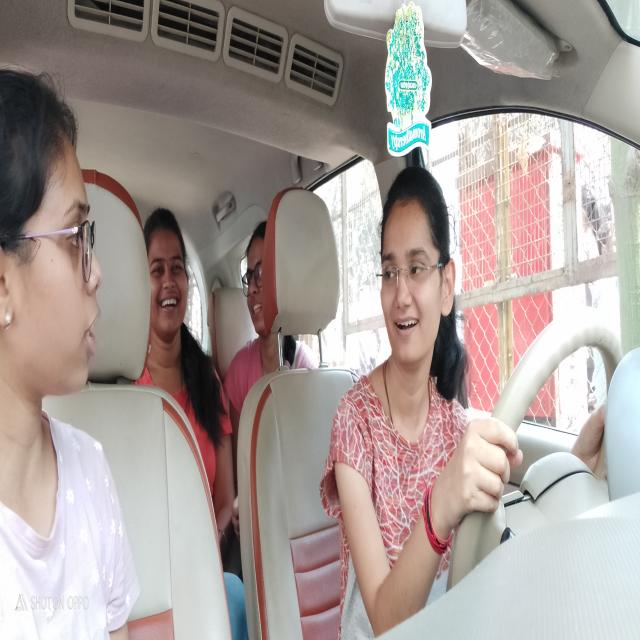LeftRight: (375, 162, 460, 374)
person: (0, 59, 104, 415), (149, 204, 191, 338), (243, 219, 273, 354)
talking: (82, 302, 100, 368), (392, 311, 422, 342)
